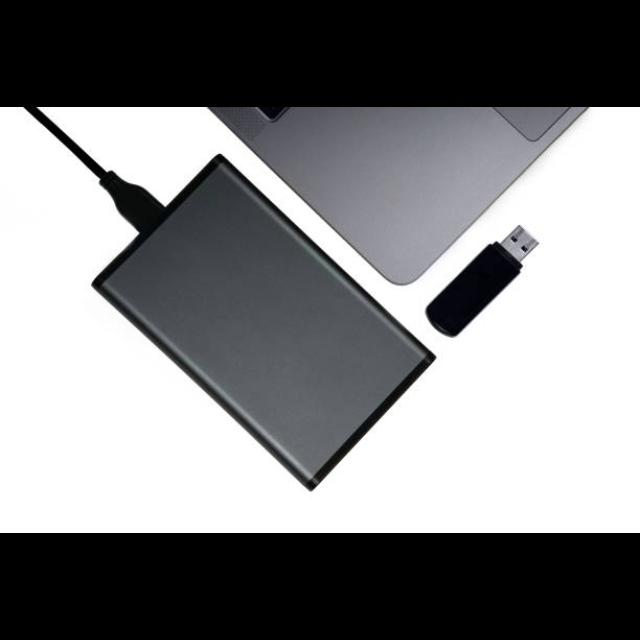HDD: (90, 154, 437, 493)
